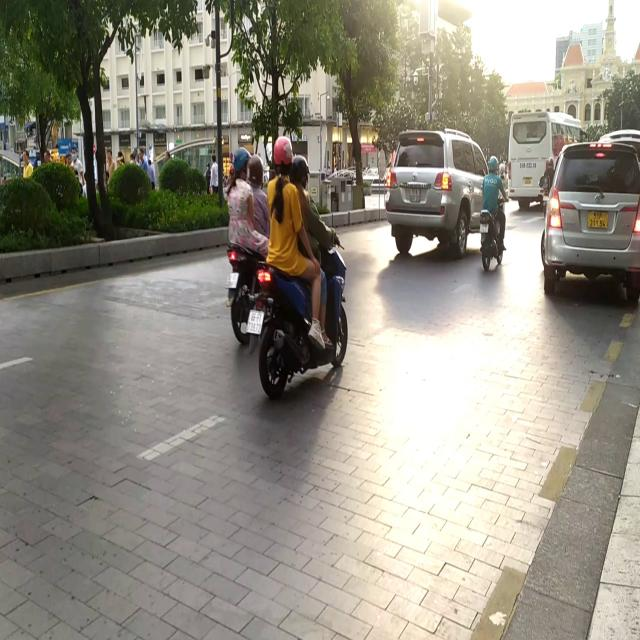bien_vang: (588, 208, 610, 230)
